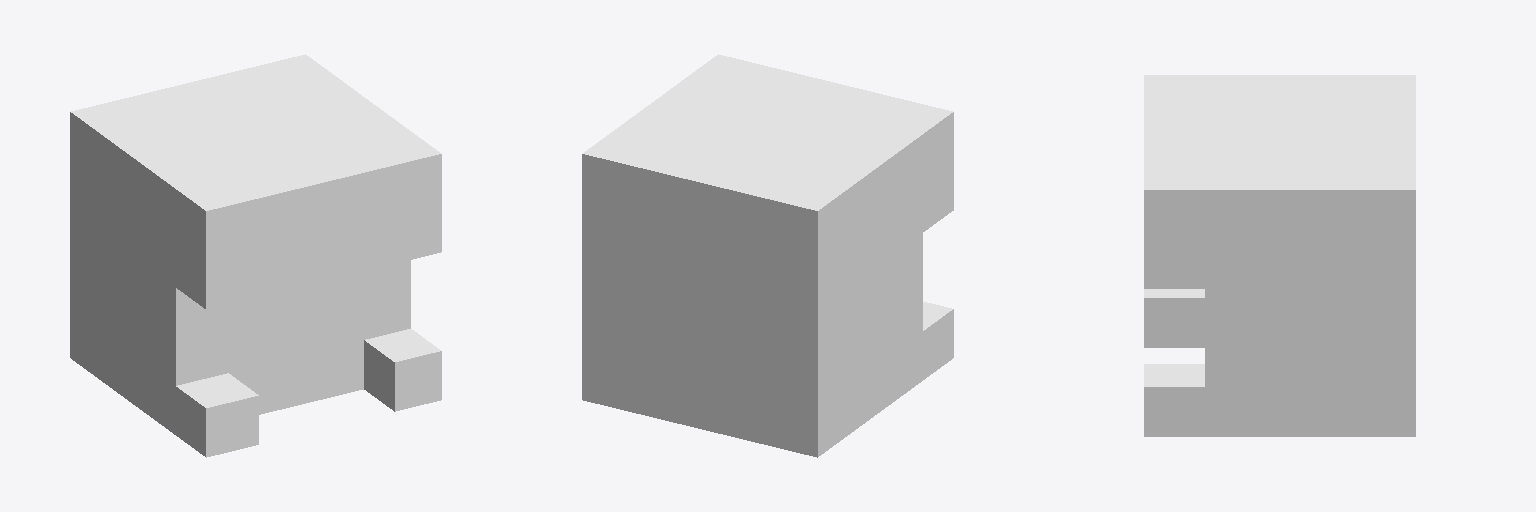
File: top_Piece_V2.obj
The picture shows the model from 3 angles: view 1: azimuth 30°, elevation 25°; view 2: azimuth 150°, elevation 25°; view 3: azimuth 270°, elevation 25°; orthographic projection.
Parts seen in each view (by area): view 1: top_Piece_V2; view 2: top_Piece_V2; view 3: top_Piece_V2.
Part boxes in pixels (bbox=[...]): top_Piece_V2: bbox=[70, 54, 441, 457]; top_Piece_V2: bbox=[582, 54, 953, 457]; top_Piece_V2: bbox=[1144, 75, 1415, 436].
Size of the model in its own units: 40 by 40 by 40.